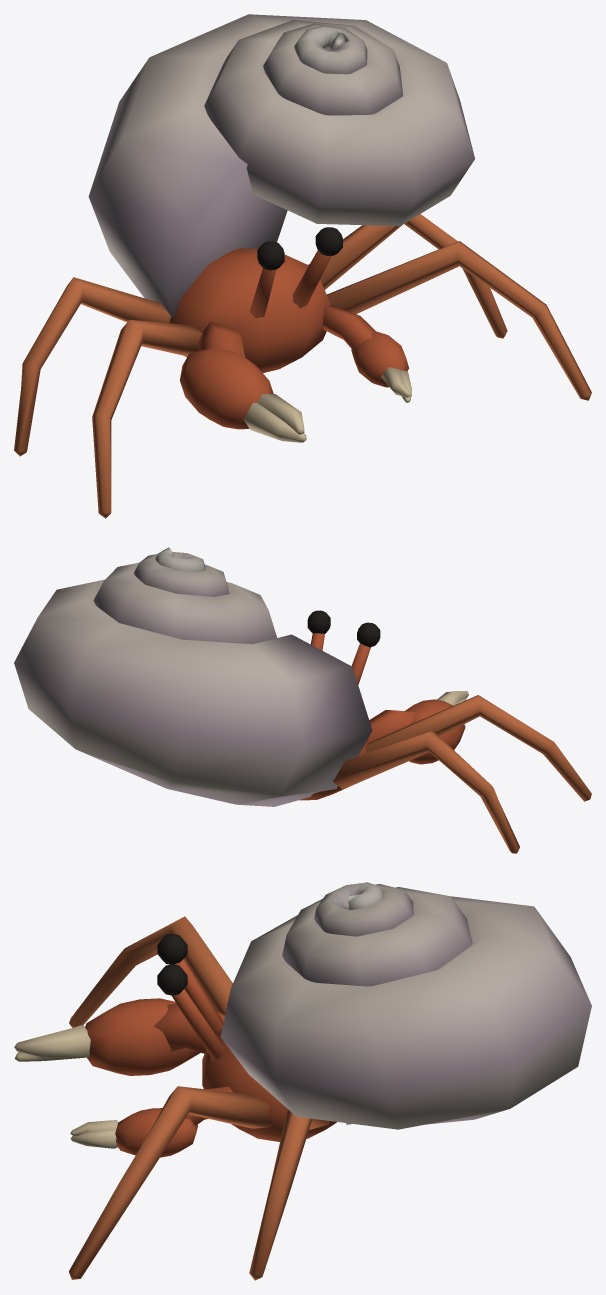
File: crab-hermit.glb
3 views of the same model, one above another, from view 1: azimuth 30°, elevation 25°; view 2: azimuth 150°, elevation 25°; view 3: azimuth 270°, elevation 25° (orthographic). The views are drawn at different scales.
Parts seen in each view (by area): view 1: crab-hermit; view 2: crab-hermit; view 3: crab-hermit.
Part boxes in pixels (x1,y1,x2,y2): crab-hermit: [14, 14, 591, 518]; crab-hermit: [14, 547, 591, 853]; crab-hermit: [14, 882, 591, 1280].
Size of the model in its own units: 0.2952 by 0.1687 by 0.2723.
